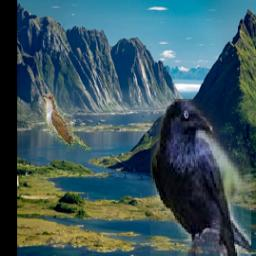Crow: (150, 100, 251, 256)
Cuckoo: (43, 94, 93, 153)
